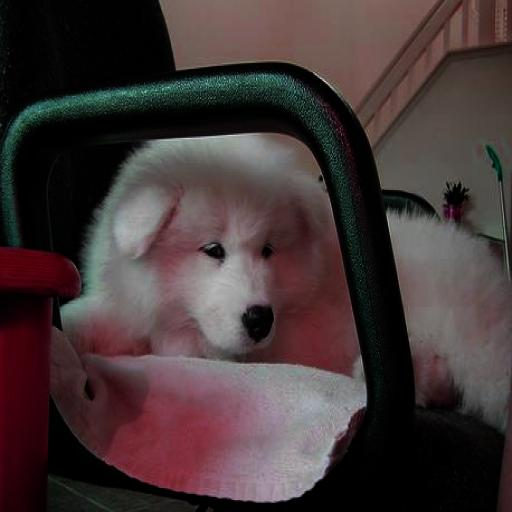dog_face: (126, 153, 320, 360)
